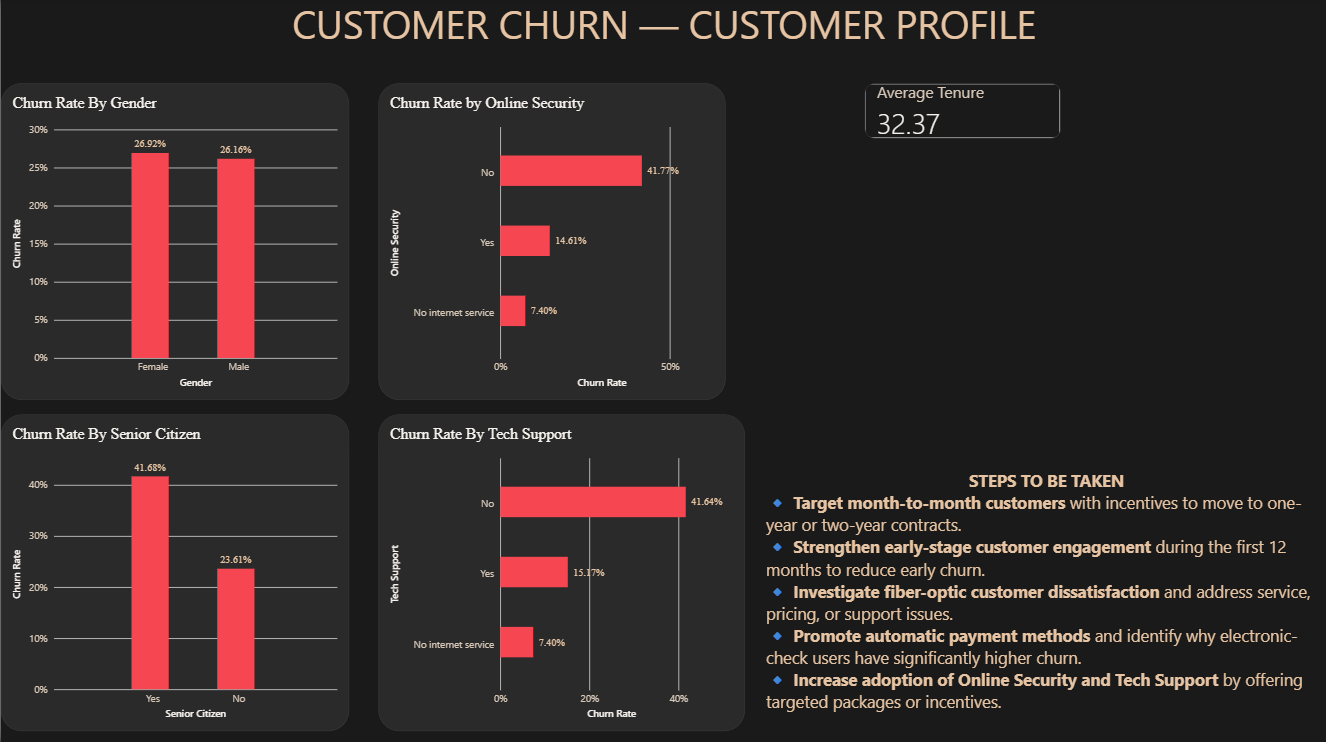

The dashboard page shown, as its layout file describes it:
{"tool":"powerbi","page":{"name":"Page 2","canvas":[1920,1080],"ordinal":1},"visuals":[{"type":"cardVisual","fields":{"Data":["Avg(clean_data.tenure)"]},"box":[1250,124,284,80],"z":0},{"type":"clusteredColumnChart","title":"Churn Rate By Gender","fields":{"Category":["clean_data.gender"],"Y":["clean_data.Churn Rate Numeric"]},"box":[0,124,504,458],"z":1},{"type":"clusteredColumnChart","title":"Churn Rate By Senior Citizen","fields":{"Category":["clean_data.SeniorCitizen_Label"],"Y":["clean_data.Churn Rate Numeric"]},"box":[0,604,504,458],"z":2},{"type":"clusteredBarChart","title":"Churn Rate By Tech Support","fields":{"Category":["clean_data.TechSupport"],"Y":["clean_data.Churn Rate Numeric"]},"box":[546,604,530,458],"z":3},{"type":"clusteredBarChart","fields":{"Category":["clean_data.OnlineSecurity"],"Y":["clean_data.Churn Rate Numeric"]},"box":[546,124,502,458],"z":4},{"type":"textbox","box":[0,0,1920,124],"z":5},{"type":"textbox","box":[1108,684,812,378],"z":6}]}

Visuals, with their boxes in screenshot pixels (x1, y1, x2, y2), scaled from the page's 1920x1080 canvas onto the 1326x742 screenshot:
cardVisual - Avg(clean_data.tenure): 863, 85, 1059, 140
"Churn Rate By Gender" clusteredColumnChart: 0, 85, 348, 400
"Churn Rate By Senior Citizen" clusteredColumnChart: 0, 415, 348, 730
"Churn Rate By Tech Support" clusteredBarChart: 377, 415, 743, 730
clusteredBarChart - clean_data.OnlineSecurity x clean_data.Churn Rate Numeric: 377, 85, 724, 400
textbox: 0, 0, 1325, 85
textbox: 765, 470, 1325, 730
